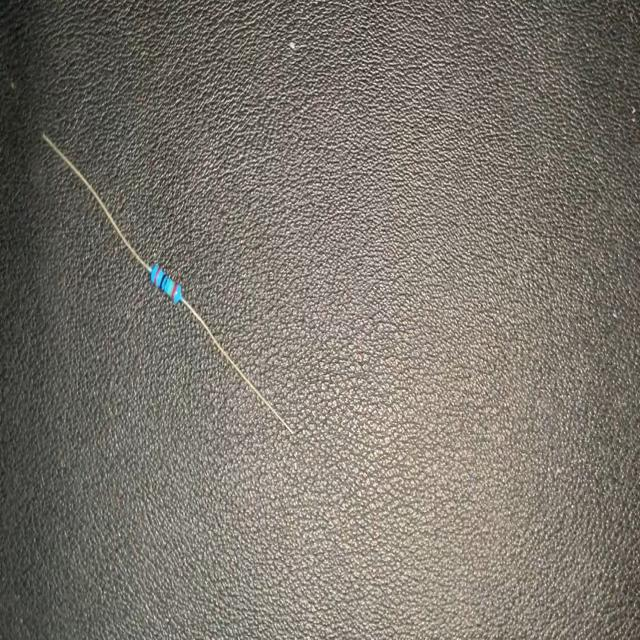resistor: (42, 132, 295, 433)
